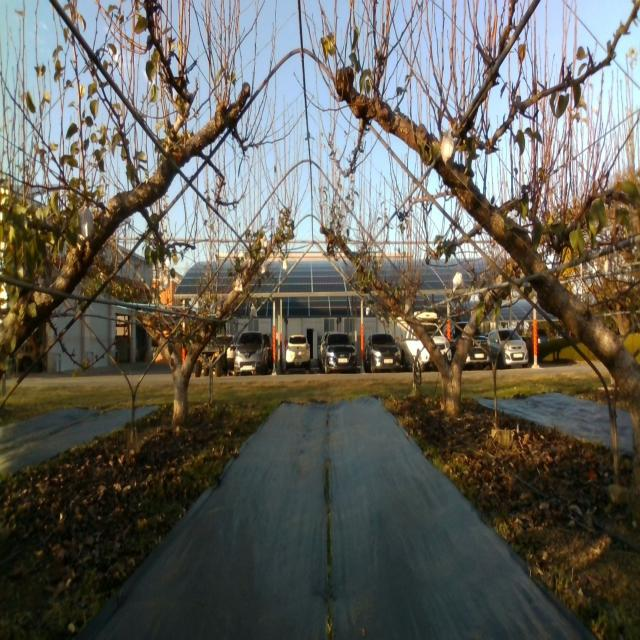pearbags: (78, 205, 94, 239), (440, 131, 454, 167), (159, 268, 170, 291), (452, 272, 464, 293)
